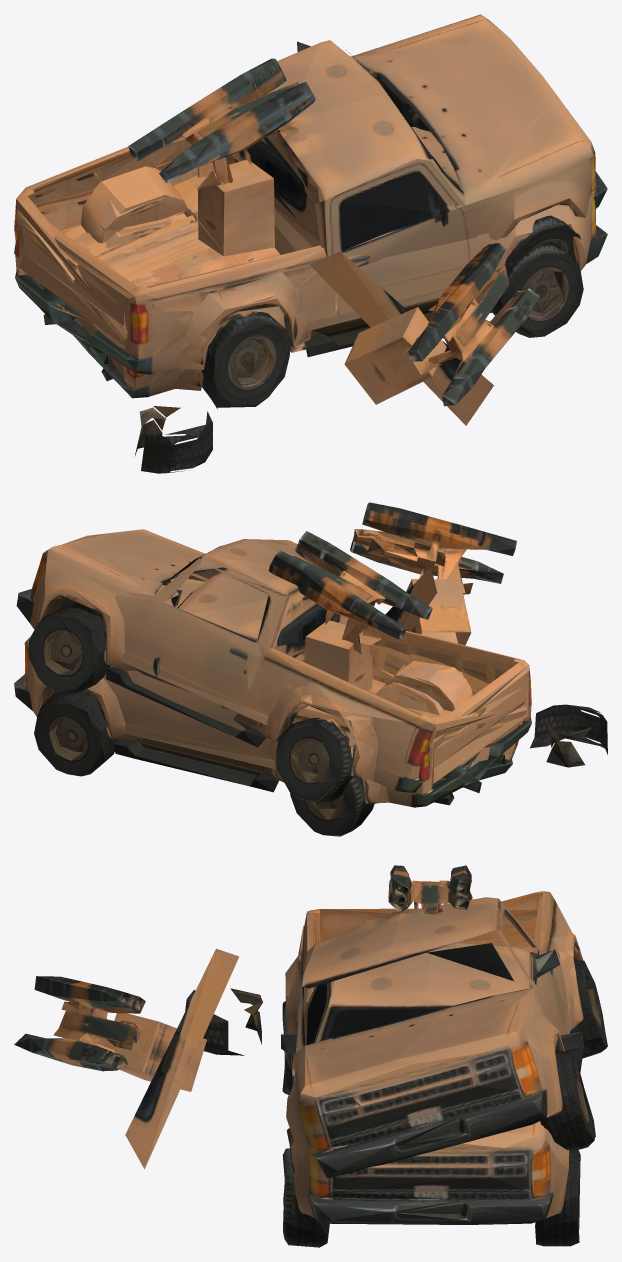
File: gun_truck.glb
3 views of the same model, one above another, from view 1: azimuth 30°, elevation 25°; view 2: azimuth 150°, elevation 25°; view 3: azimuth 270°, elevation 25° (orthographic). The views are drawn at different scales.
Parts seen in each view (by area): view 1: WRECK_hull_hull, hull_hull, WRECK_turret_metal, turret_metal, hull_rubber, hull_glass, WRECK_hull_metal, WRECK_hull_glass, WRECK_hull_rubber, hull_metal; view 2: WRECK_hull_hull, hull_hull, turret_metal, WRECK_turret_metal, WRECK_hull_rubber, hull_rubber, WRECK_hull_metal, hull_metal, hull_glass; view 3: WRECK_hull_hull, hull_hull, WRECK_turret_metal, WRECK_hull_metal, hull_metal, WRECK_hull_rubber, hull_glass, turret_metal, hull_rubber, WRECK_hull_glass.
Boxes of the visible parts, box(x1,y1,x2,y2) form: WRECK_hull_hull: box(14, 14, 598, 473); hull_hull: box(15, 126, 598, 405); WRECK_turret_metal: box(310, 243, 539, 425); turret_metal: box(128, 58, 319, 256); hull_rubber: box(220, 269, 583, 407); hull_glass: box(227, 131, 449, 229); WRECK_hull_metal: box(99, 151, 607, 250); WRECK_hull_glass: box(297, 41, 436, 251); WRECK_hull_rubber: box(153, 240, 575, 470); hull_metal: box(103, 222, 607, 255); WRECK_hull_hull: box(30, 529, 607, 804); hull_hull: box(24, 569, 531, 835); turret_metal: box(269, 531, 432, 690); WRECK_turret_metal: box(350, 502, 516, 645); WRECK_hull_rubber: box(28, 614, 603, 802); hull_rubber: box(34, 705, 355, 836); WRECK_hull_metal: box(16, 589, 439, 715); hull_metal: box(14, 674, 454, 711); hull_glass: box(153, 596, 326, 677); WRECK_hull_hull: box(194, 891, 605, 1177); hull_hull: box(282, 908, 580, 1234); WRECK_turret_metal: box(14, 948, 239, 1168); WRECK_hull_metal: box(311, 952, 546, 1177); hull_metal: box(308, 1191, 553, 1224); WRECK_hull_rubber: box(185, 988, 607, 1152); hull_glass: box(281, 954, 582, 1053); turret_metal: box(388, 865, 472, 914); hull_rubber: box(282, 1051, 580, 1247); WRECK_hull_glass: box(302, 943, 560, 1004).
Bounding box in the file's own units: 5.79 × 2.95 × 5.55.
Materials: 1 (1 with a texture image).
